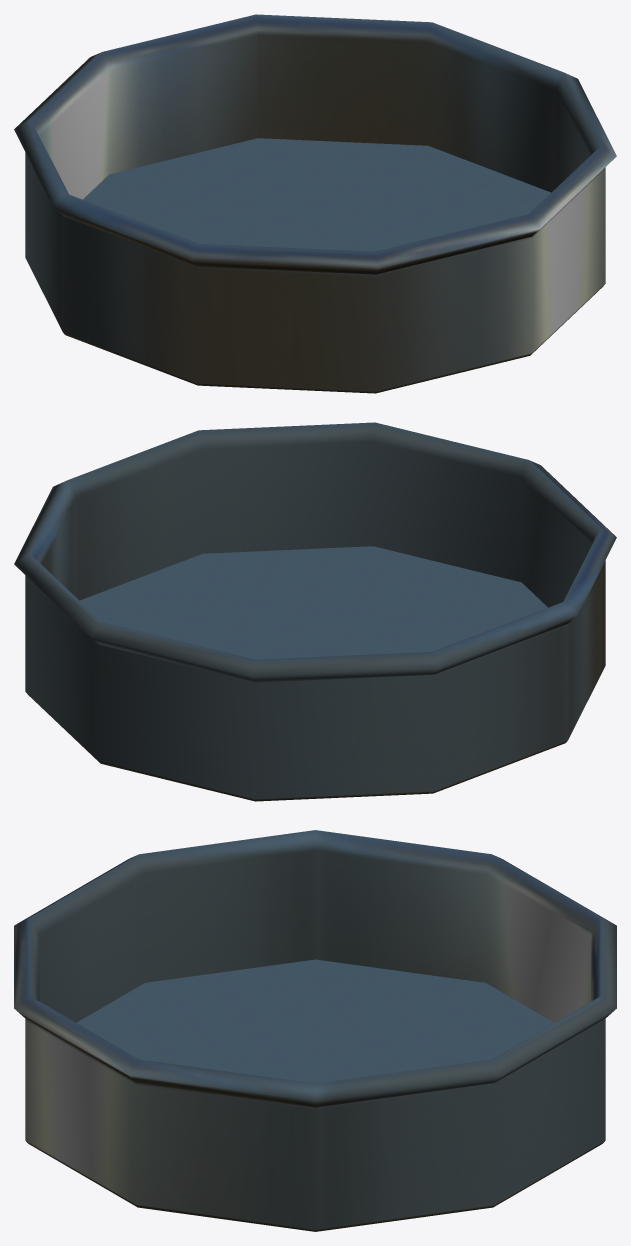
Rendered from Cake_Pan.fbx.
3 views of the same model, one above another, from view 1: azimuth 30°, elevation 25°; view 2: azimuth 150°, elevation 25°; view 3: azimuth 270°, elevation 25° (orthographic). The views are drawn at different scales.
Visible parts, largest first — view 1: Cake_Pan_01; view 2: Cake_Pan_01; view 3: Cake_Pan_01.
Part boxes in pixels (x1,y1,x2,y2): Cake_Pan_01: [14, 14, 616, 393]; Cake_Pan_01: [14, 422, 616, 801]; Cake_Pan_01: [14, 830, 616, 1231].
Bounding box in the file's own units: 104 × 26.66 × 98.86.
